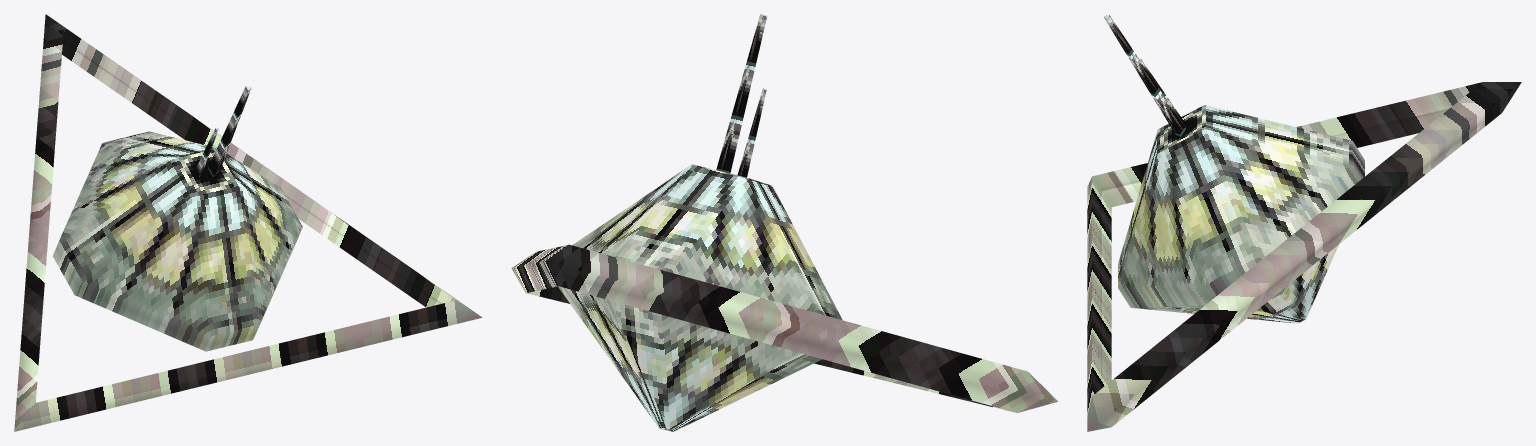
File: tblackbox_3db.gltf
3 views of the same model, side by side, from view 1: azimuth 30°, elevation 25°; view 2: azimuth 150°, elevation 25°; view 3: azimuth 270°, elevation 25° (orthographic). The views are drawn at different scales.
Visible parts, largest first — view 1: tblackbox.3db; view 2: tblackbox.3db; view 3: tblackbox.3db.
Boxes of the visible parts, <box> form: tblackbox.3db: <box>14,14,482,431</box>; tblackbox.3db: <box>511,14,1057,431</box>; tblackbox.3db: <box>1087,14,1521,431</box>.
Size of the model in its own units: 5.93 by 3.51 by 4.45.
1 material, 1 textured.
